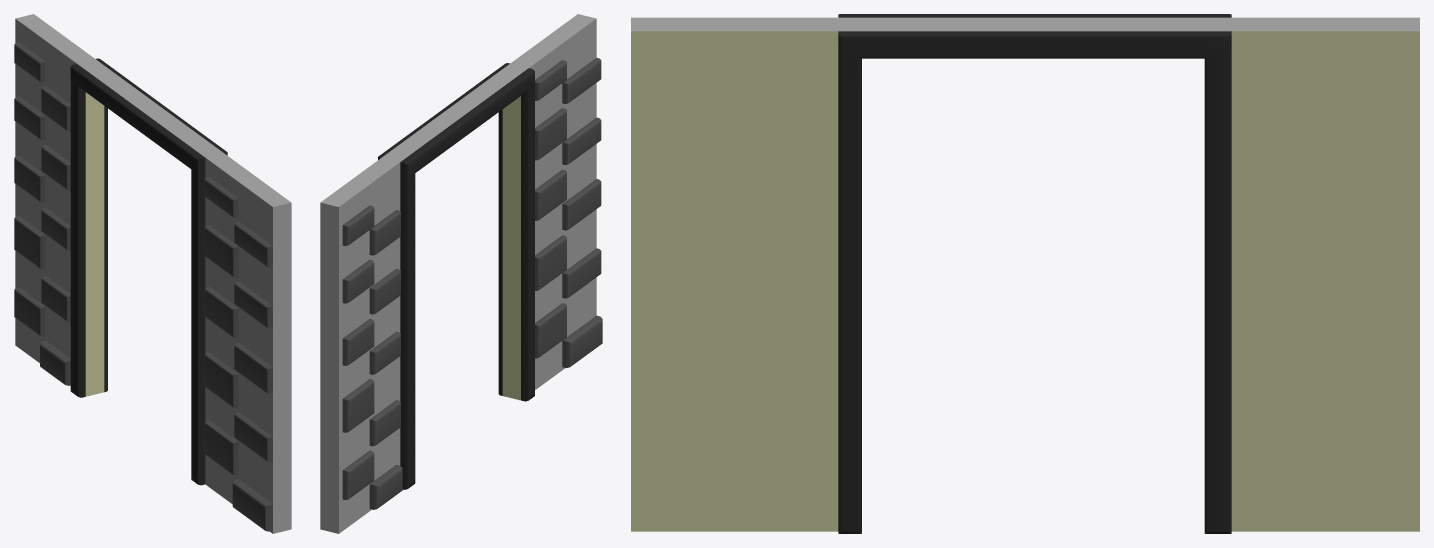
The model's file is EntreeMur.fbx.
3 renders of one model, left to right at view 1: azimuth 30°, elevation 25°; view 2: azimuth 150°, elevation 25°; view 3: azimuth 270°, elevation 25°, orthographic. The views are drawn at different scales.
Parts seen in each view (by area): view 1: polySurface29; view 2: polySurface29; view 3: polySurface29.
Boxes of the visible parts, x1,y1,x2,y2 form: polySurface29: (14, 14, 291, 533); polySurface29: (320, 14, 602, 533); polySurface29: (631, 14, 1419, 533).
Size of the model in its own units: 0.2077 by 2.05 by 2.93.
